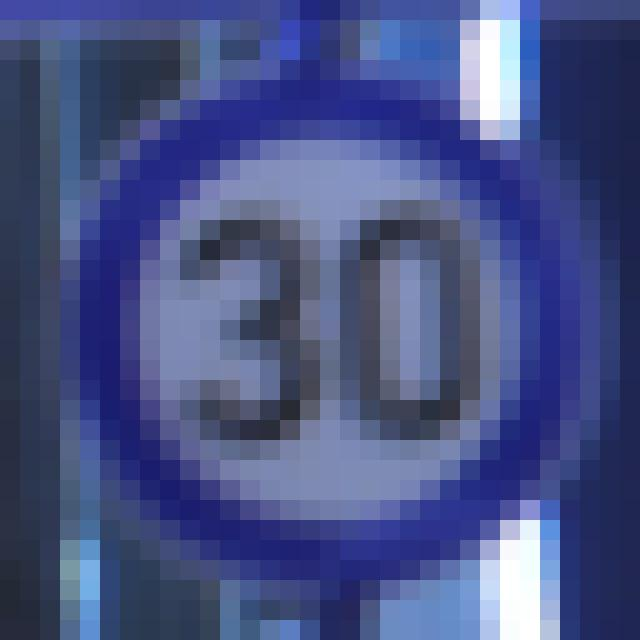SPEED LIMIT 30: (77, 85, 570, 571)
